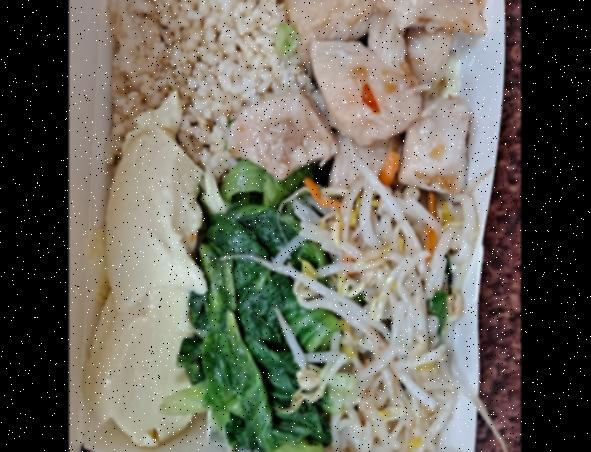box: (77, 0, 504, 452)
brown rice: (117, 0, 285, 179)
scallion chicken: (268, 0, 485, 189)
side dish: (84, 127, 206, 447), (201, 182, 331, 452), (332, 189, 450, 452)
